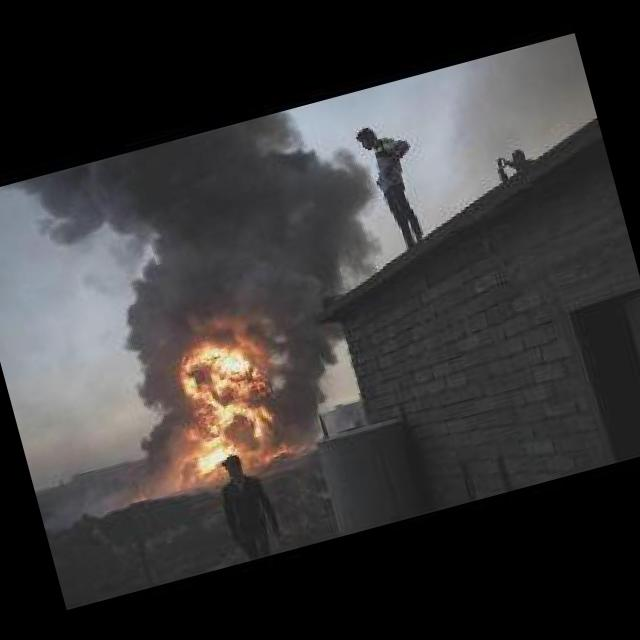Fire: (140, 310, 298, 490), (130, 490, 144, 501)
Smoke: (22, 92, 401, 380)
